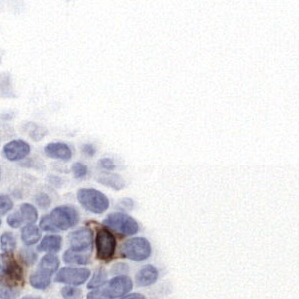Lymphocyte: (88, 218, 120, 262)
